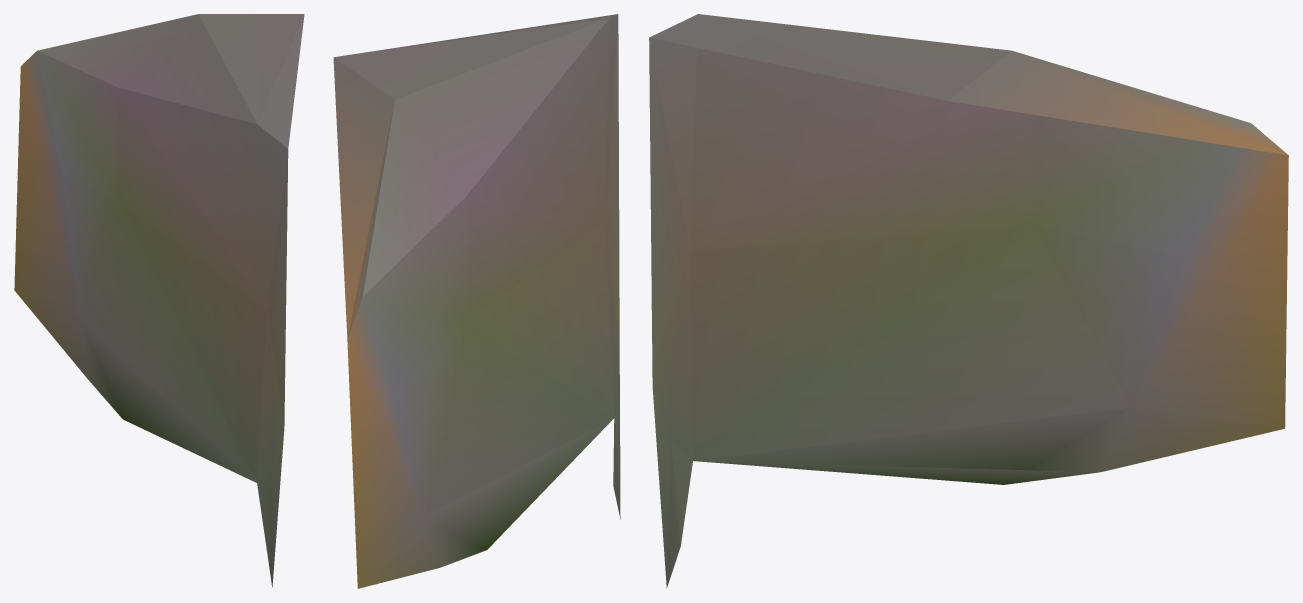
3 renders of one model, left to right at view 1: azimuth 30°, elevation 25°; view 2: azimuth 150°, elevation 25°; view 3: azimuth 270°, elevation 25°, orthographic. The views are drawn at different scales.
Bounding box in the file's own units: 0.973 × 2.68 × 2.69.
